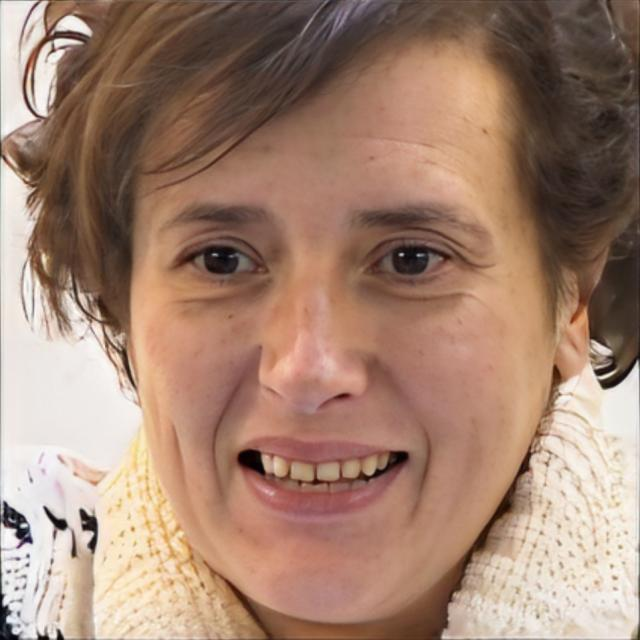happy: (125, 40, 543, 611)
